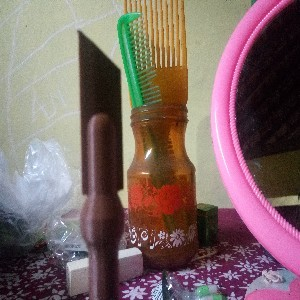cutter: (76, 29, 125, 300)
